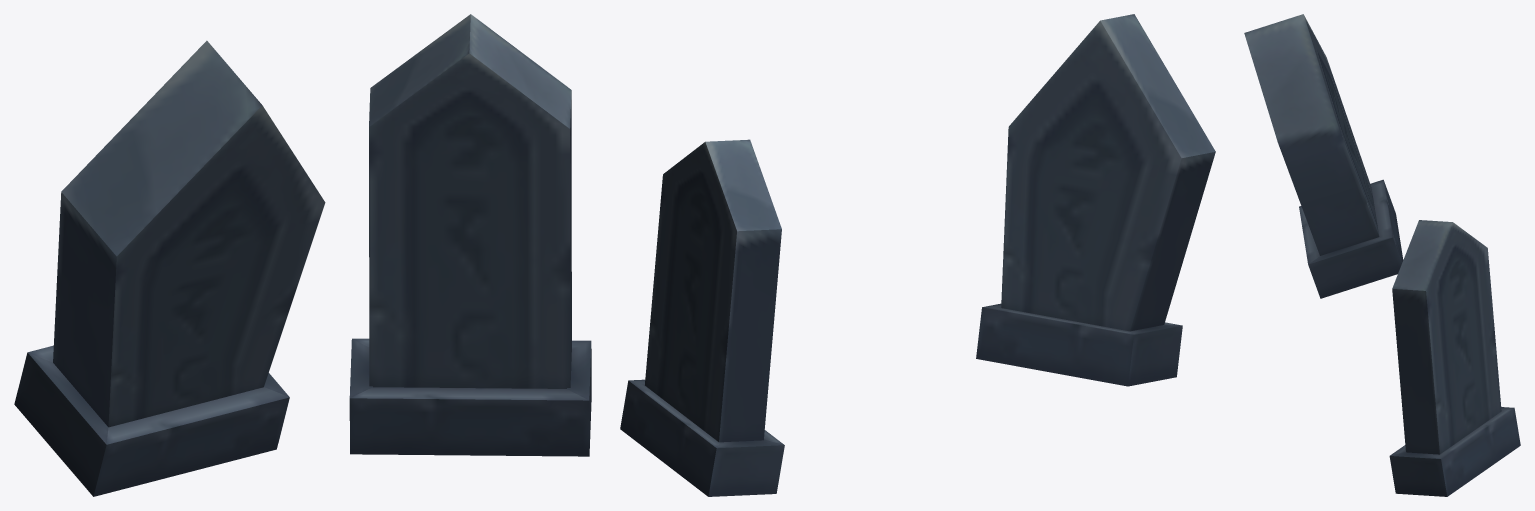
The model's file is Area_04_28.fbx.
3 views of the same model, side by side, from view 1: azimuth 30°, elevation 25°; view 2: azimuth 150°, elevation 25°; view 3: azimuth 270°, elevation 25° (orthographic). The views are drawn at different scales.
Visible parts, largest first — view 1: Area_04_28; view 2: Area_04_28; view 3: Area_04_28.
Boxes of the visible parts, x1,y1,x2,y2 form: Area_04_28: (14,14,591,496); Area_04_28: (620,14,1215,496); Area_04_28: (1244,14,1520,496).
Size of the model in its own units: 836 by 740 by 535.
